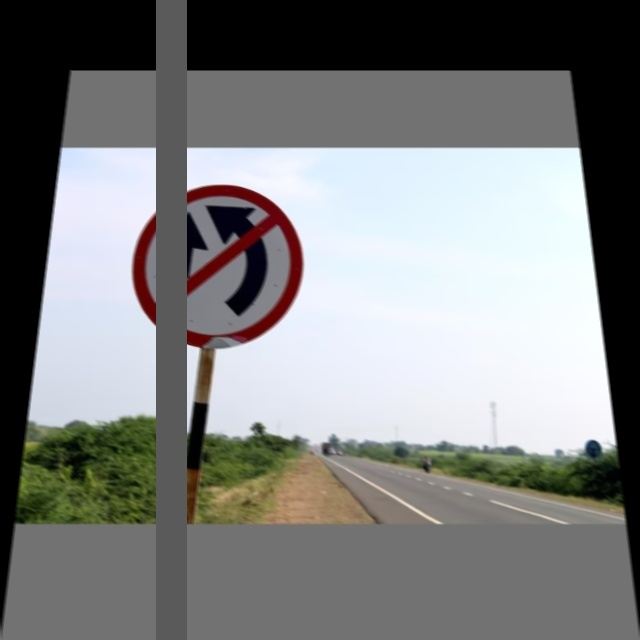Overtaking_Prohibited: (127, 183, 301, 350)
